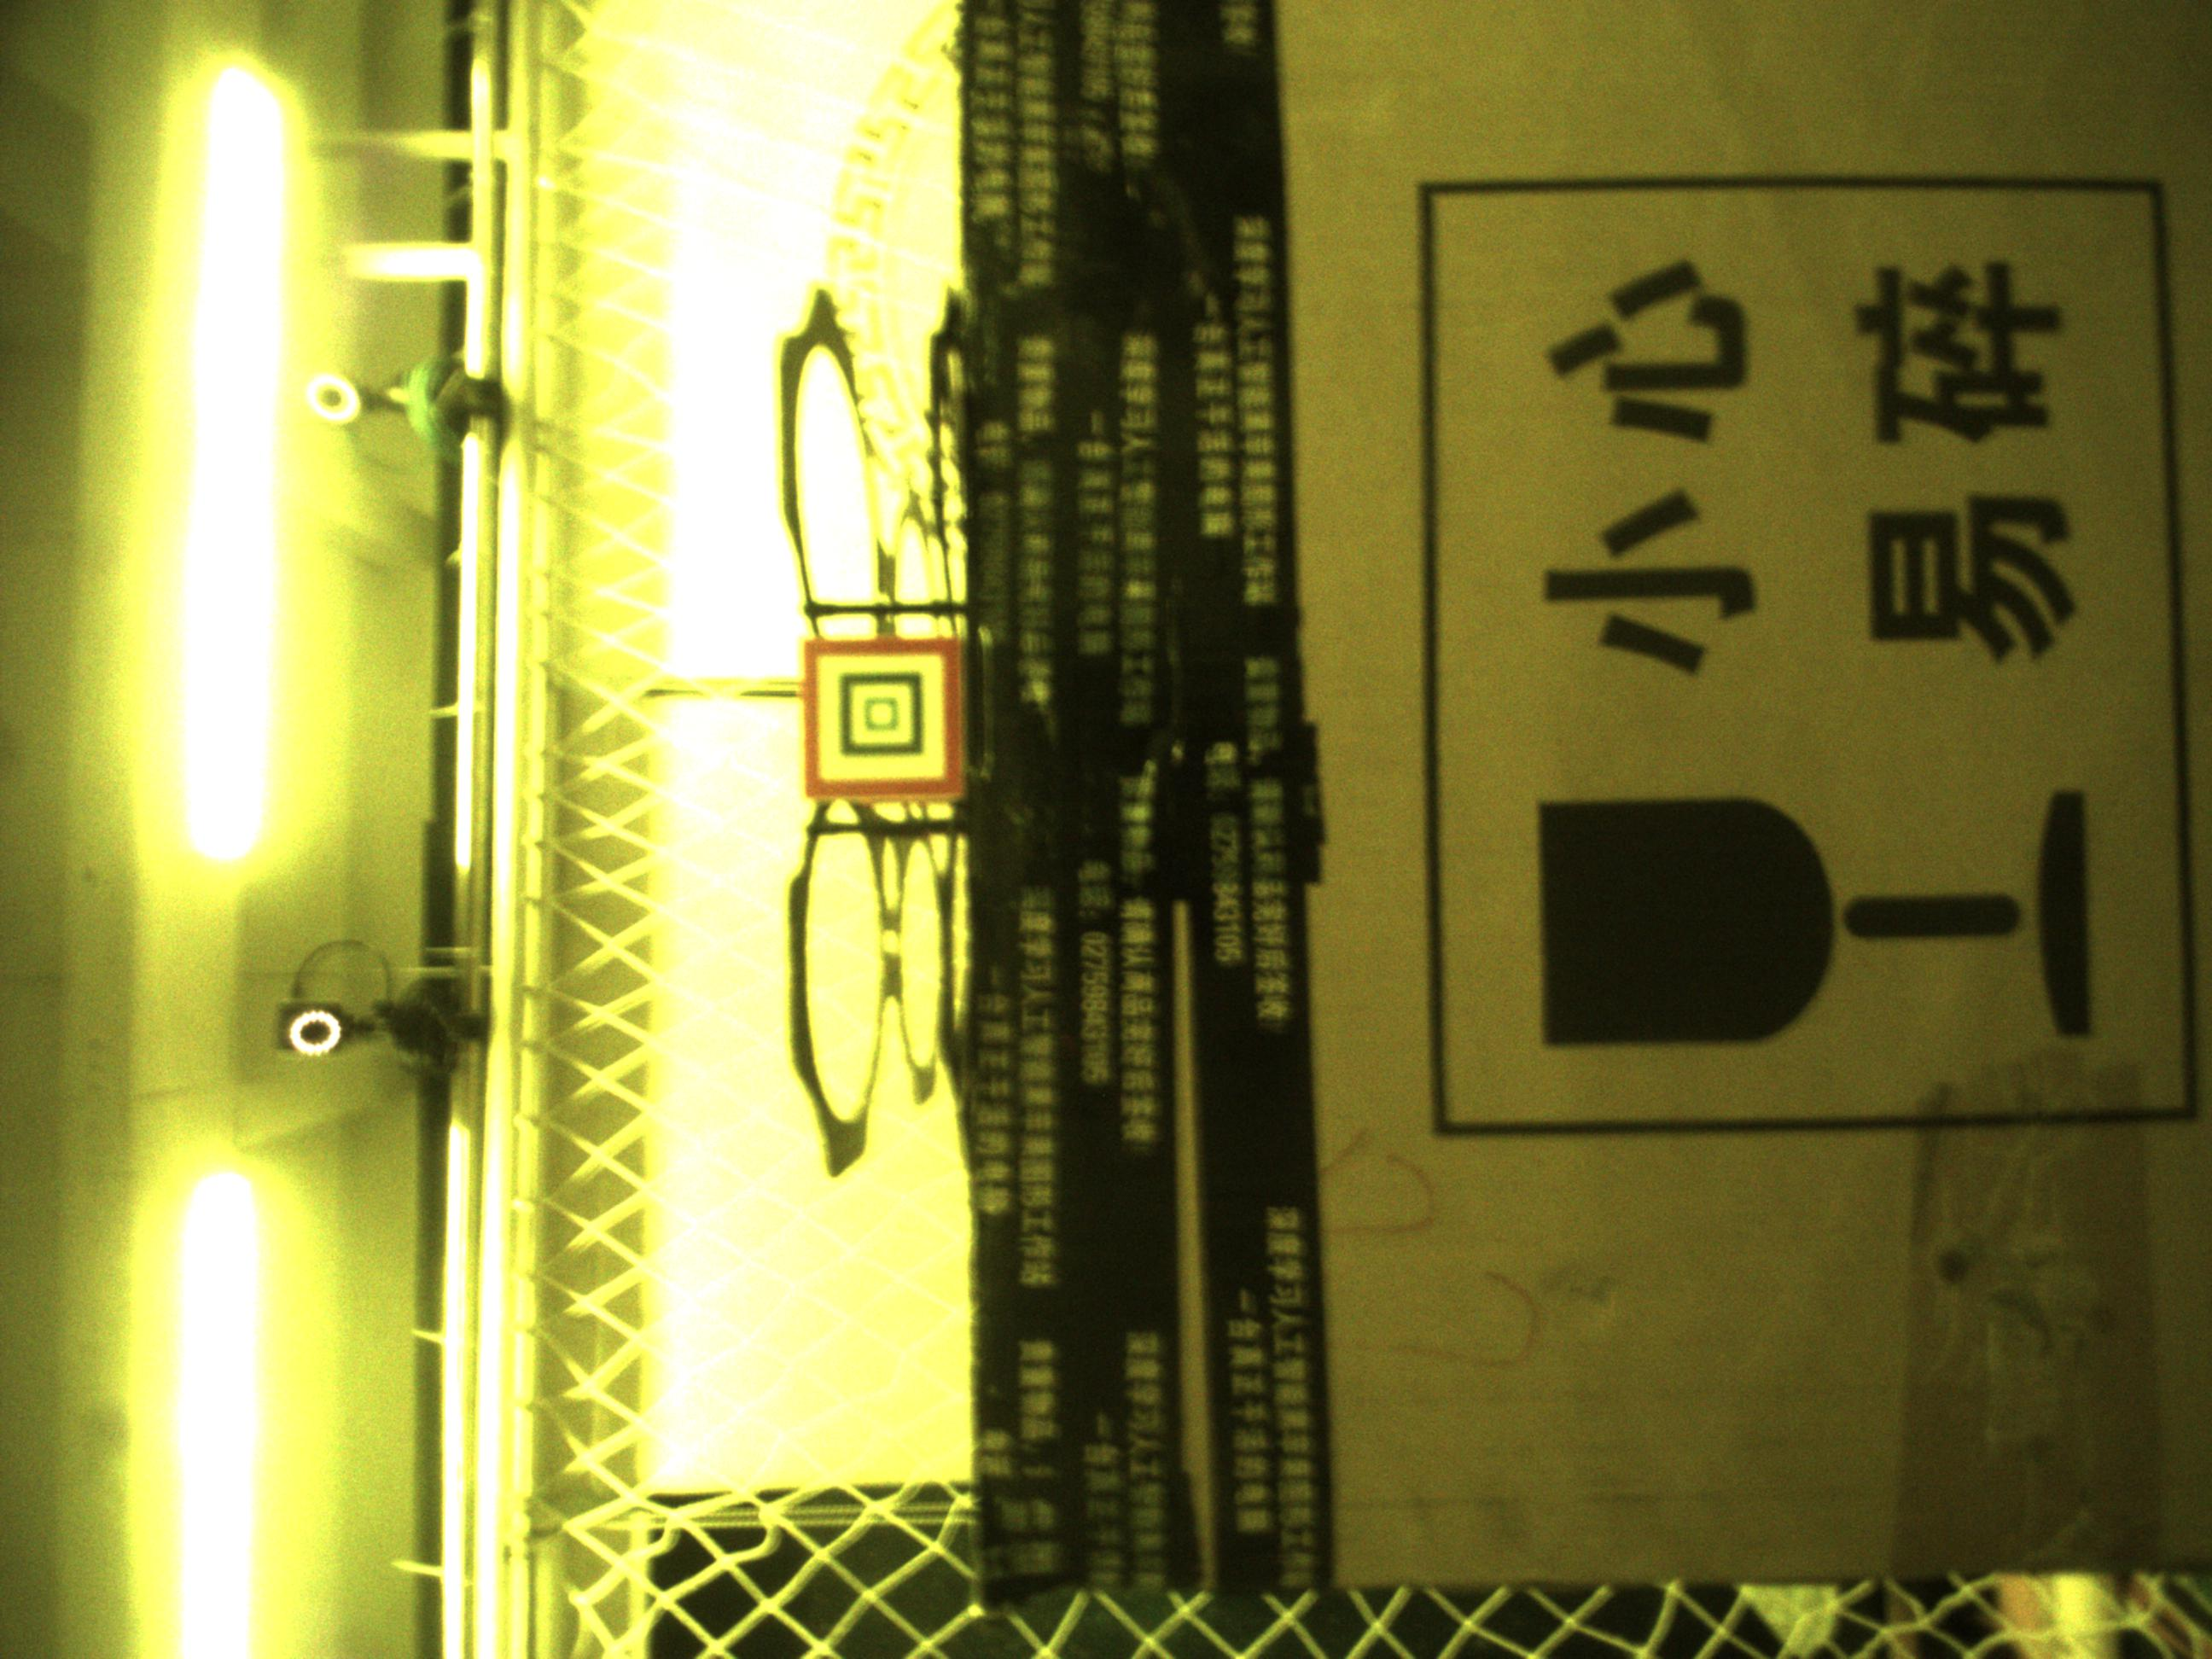outline: (803, 638, 963, 800)
